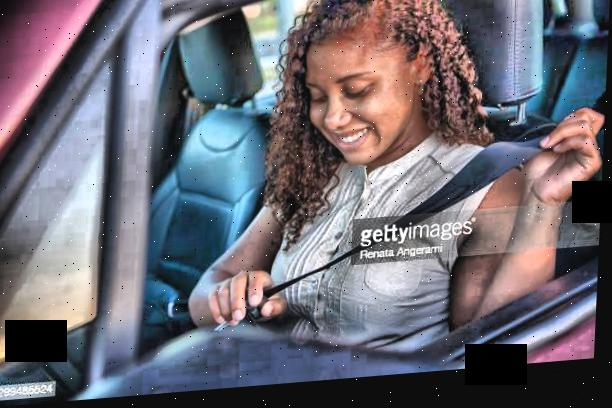seatbelt: (213, 122, 605, 341)
